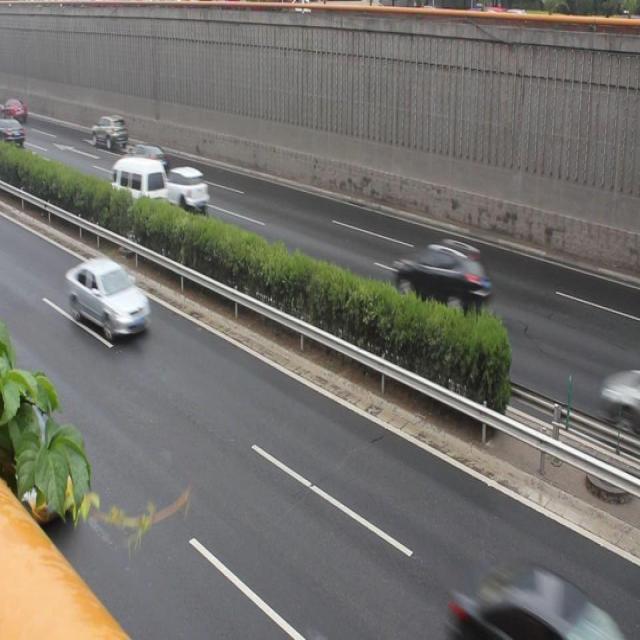car: (450, 553, 621, 640), (66, 252, 152, 344), (392, 235, 490, 312), (165, 162, 211, 215), (125, 138, 168, 176), (89, 112, 128, 152)
truck: (110, 153, 167, 206)
